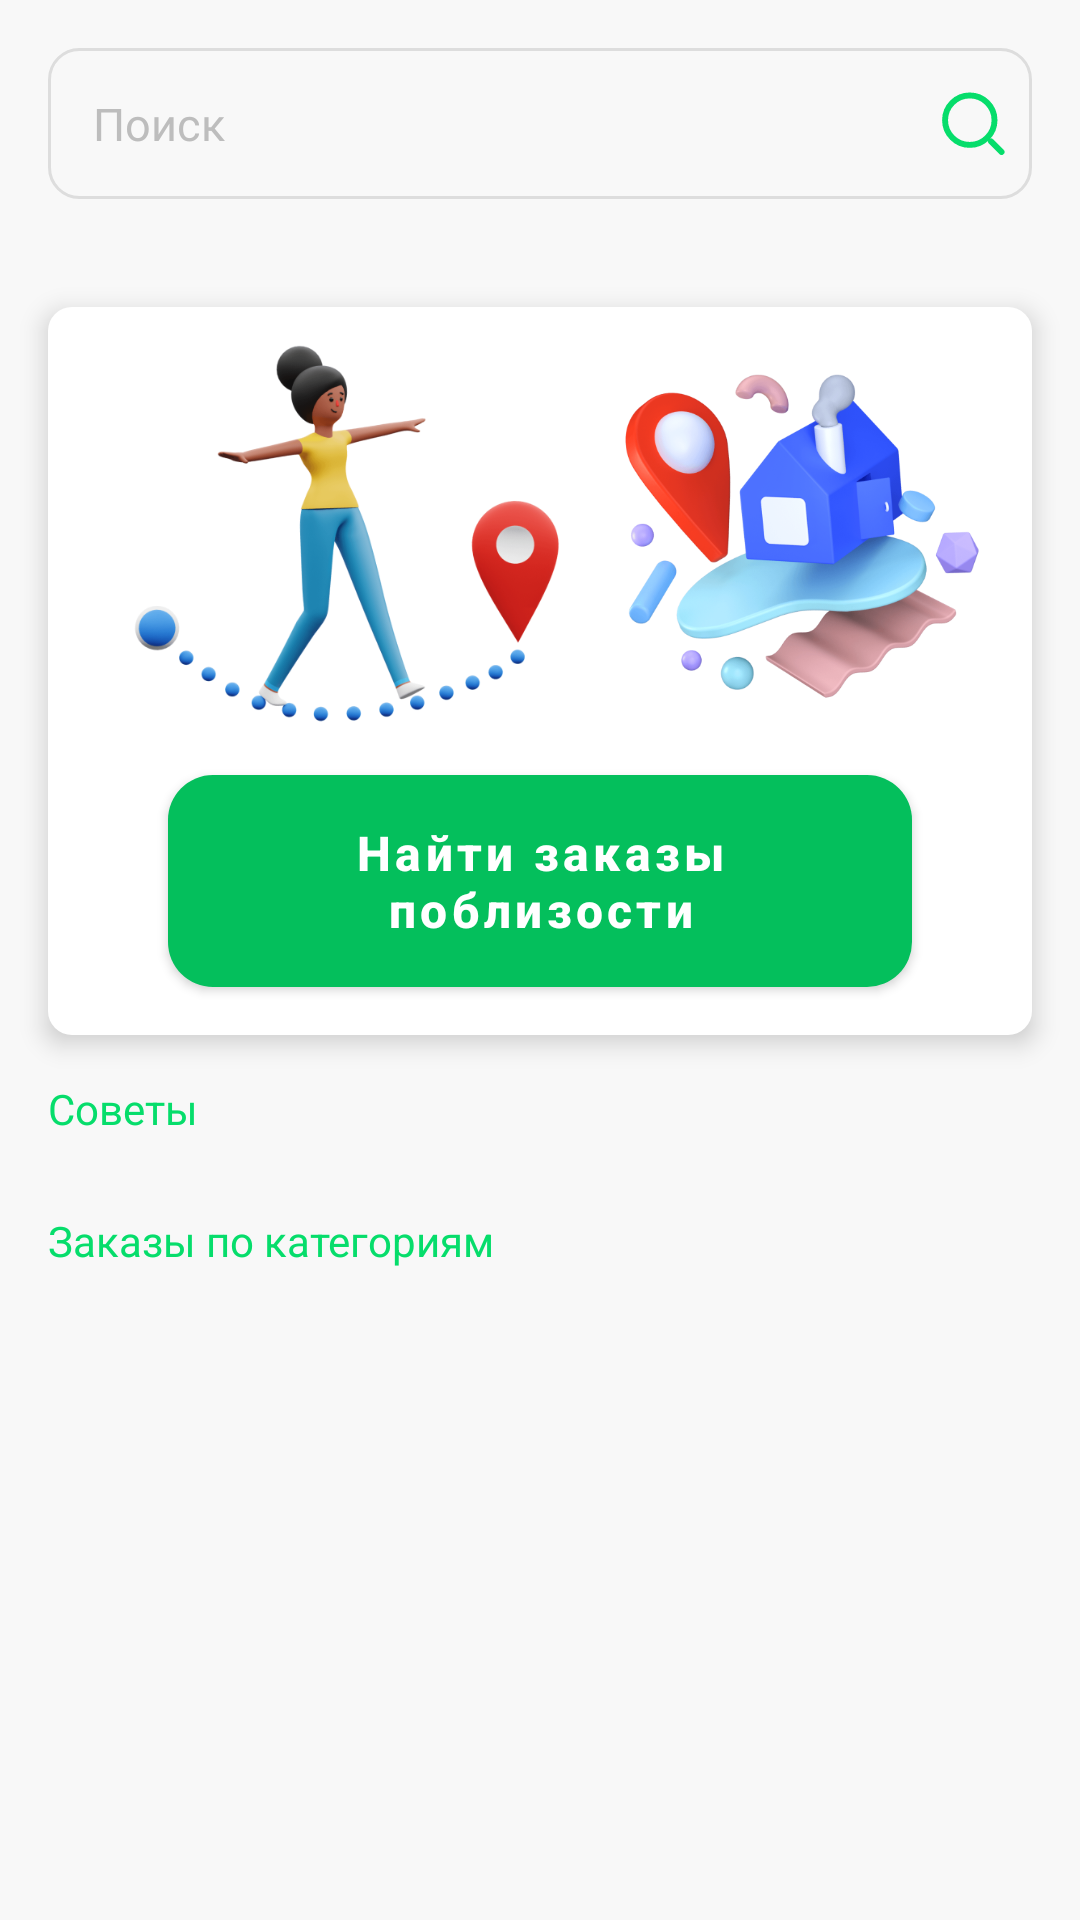

Screen size 1080 × 1920. Icon name, then its box in pixels as {"left": x1, "top": y1, "right": x2, "bottom": y2}:
home location: {"left": 625, "top": 375, "right": 979, "bottom": 698}
search: {"left": 942, "top": 92, "right": 1005, "bottom": 155}
